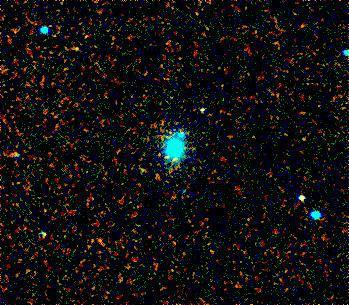star: (130, 156, 160, 186)
